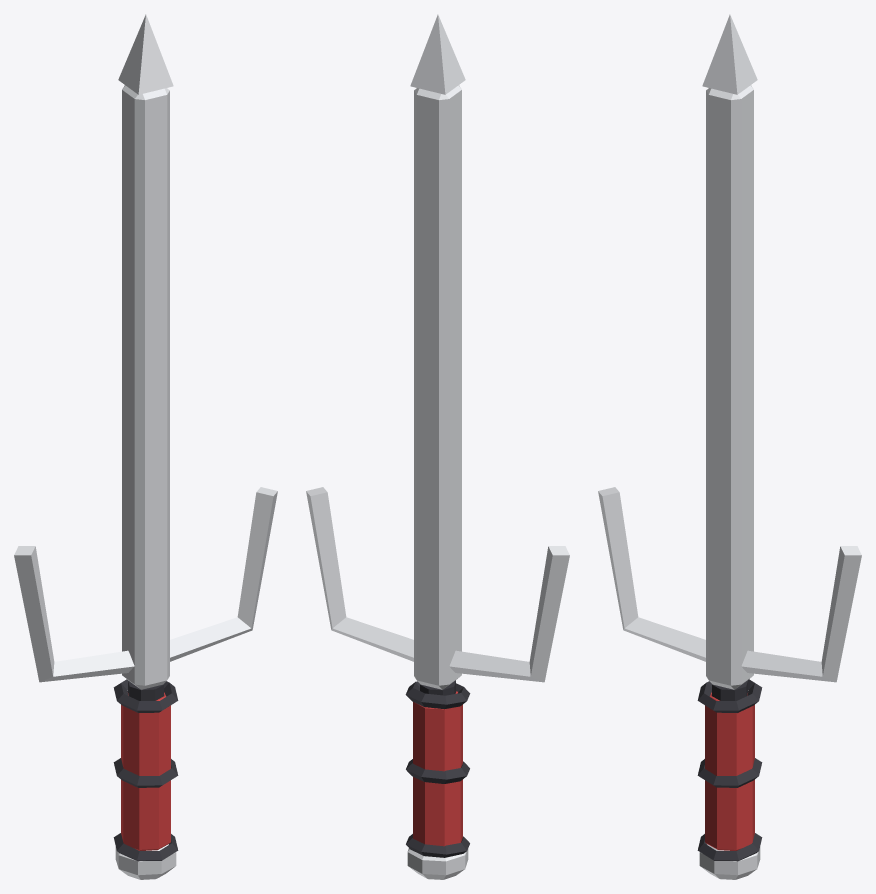
Rendered from Sai.fbx.
3 views of the same model, side by side, from view 1: azimuth 30°, elevation 25°; view 2: azimuth 150°, elevation 25°; view 3: azimuth 330°, elevation 25° (orthographic).
Parts seen in each view (by area): view 1: Sai; view 2: Sai; view 3: Sai.
Part boxes in pixels (box(x1,y1,x2,y2)): Sai: box(14, 14, 277, 879); Sai: box(306, 14, 569, 879); Sai: box(598, 14, 861, 879).
Bounding box in the file's own units: 1.2 × 3.72 × 0.2614.
Materials: 1 (1 with a texture image).
